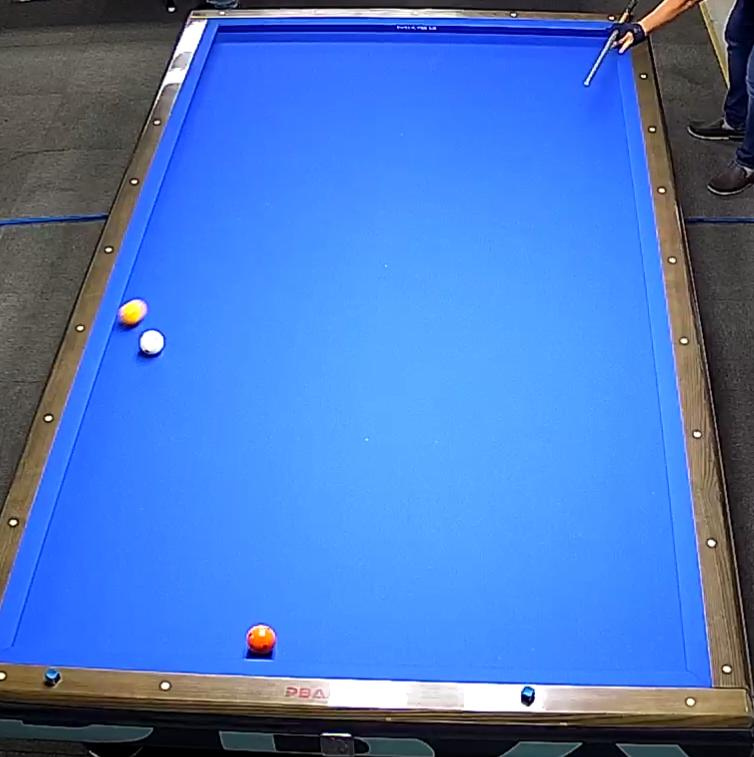orange ball: (241, 623, 280, 661)
white ball: (137, 329, 168, 360)
yellow ball: (111, 297, 151, 328)
